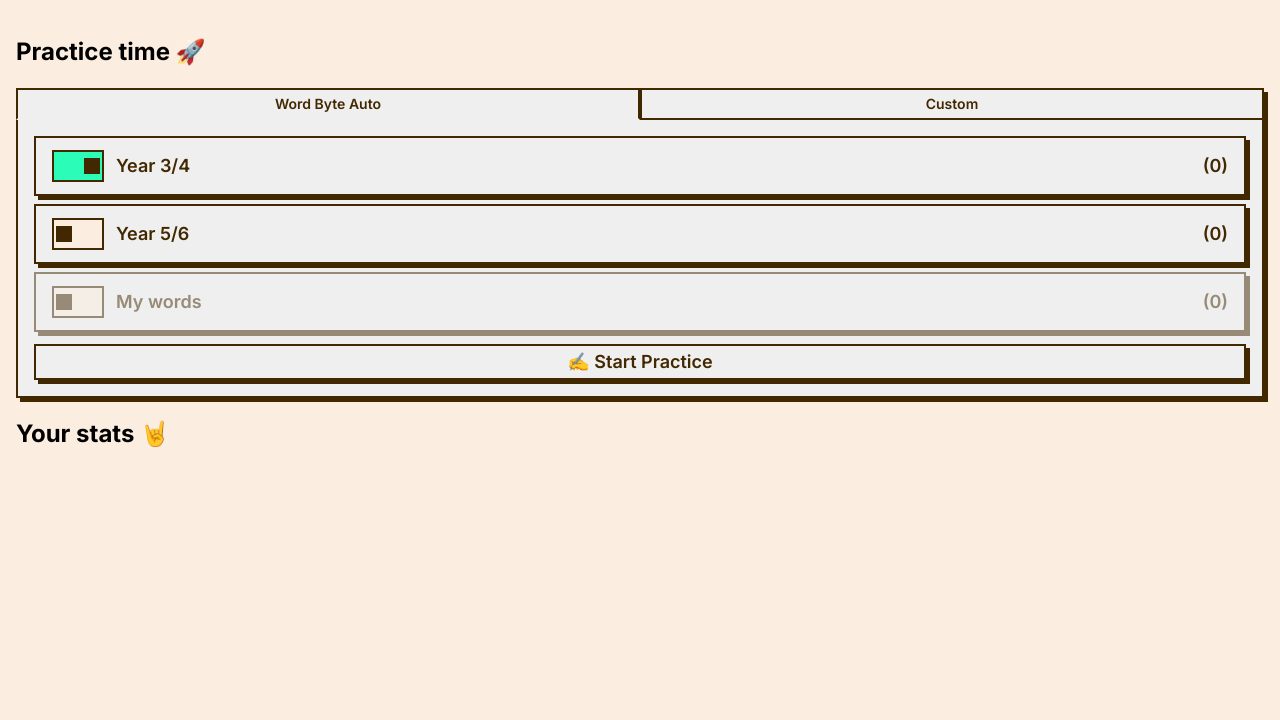
Test: WelcomeContent › allows deselecting all year groups and shows error message
The image size is (1280, 720).
Click the text "Year 3/4".
click(153, 166)  # box [116,155,190,176]
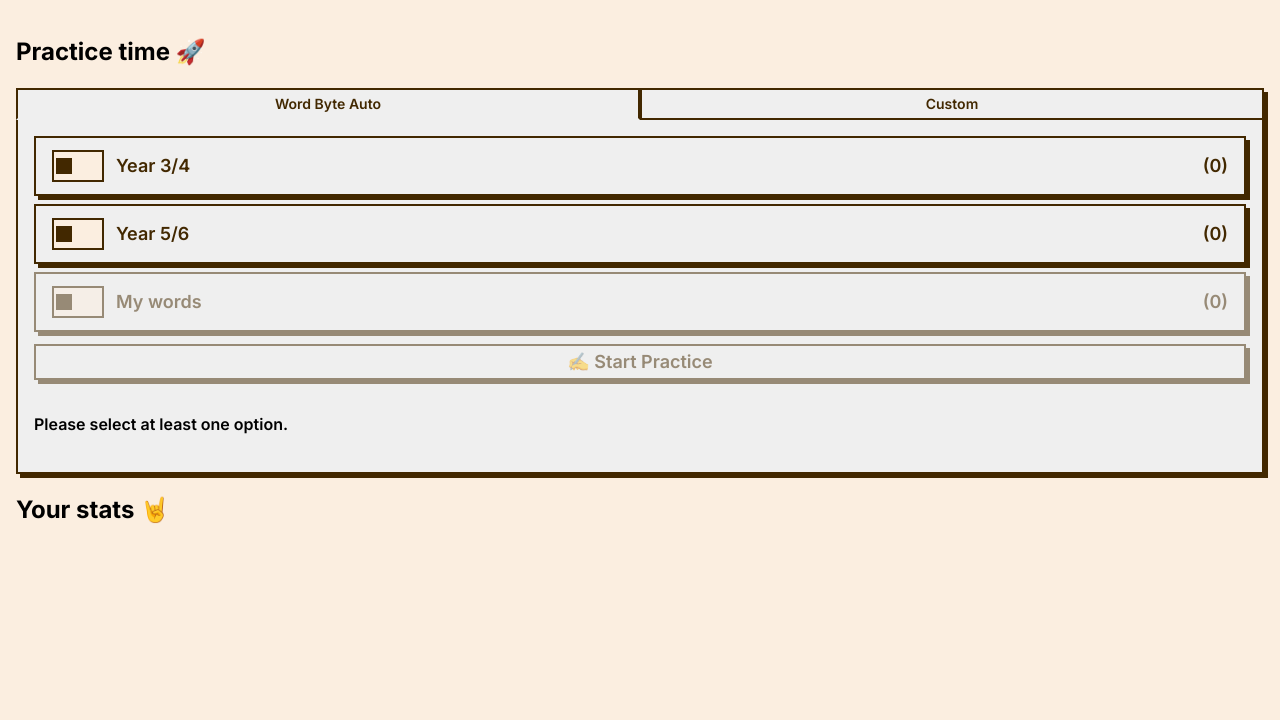
Expected: the link "✍️ Start Practice" is shown, [34,344,1246,380]
Expected: the text "Please select at least one option." is shown, [34,414,288,434]
